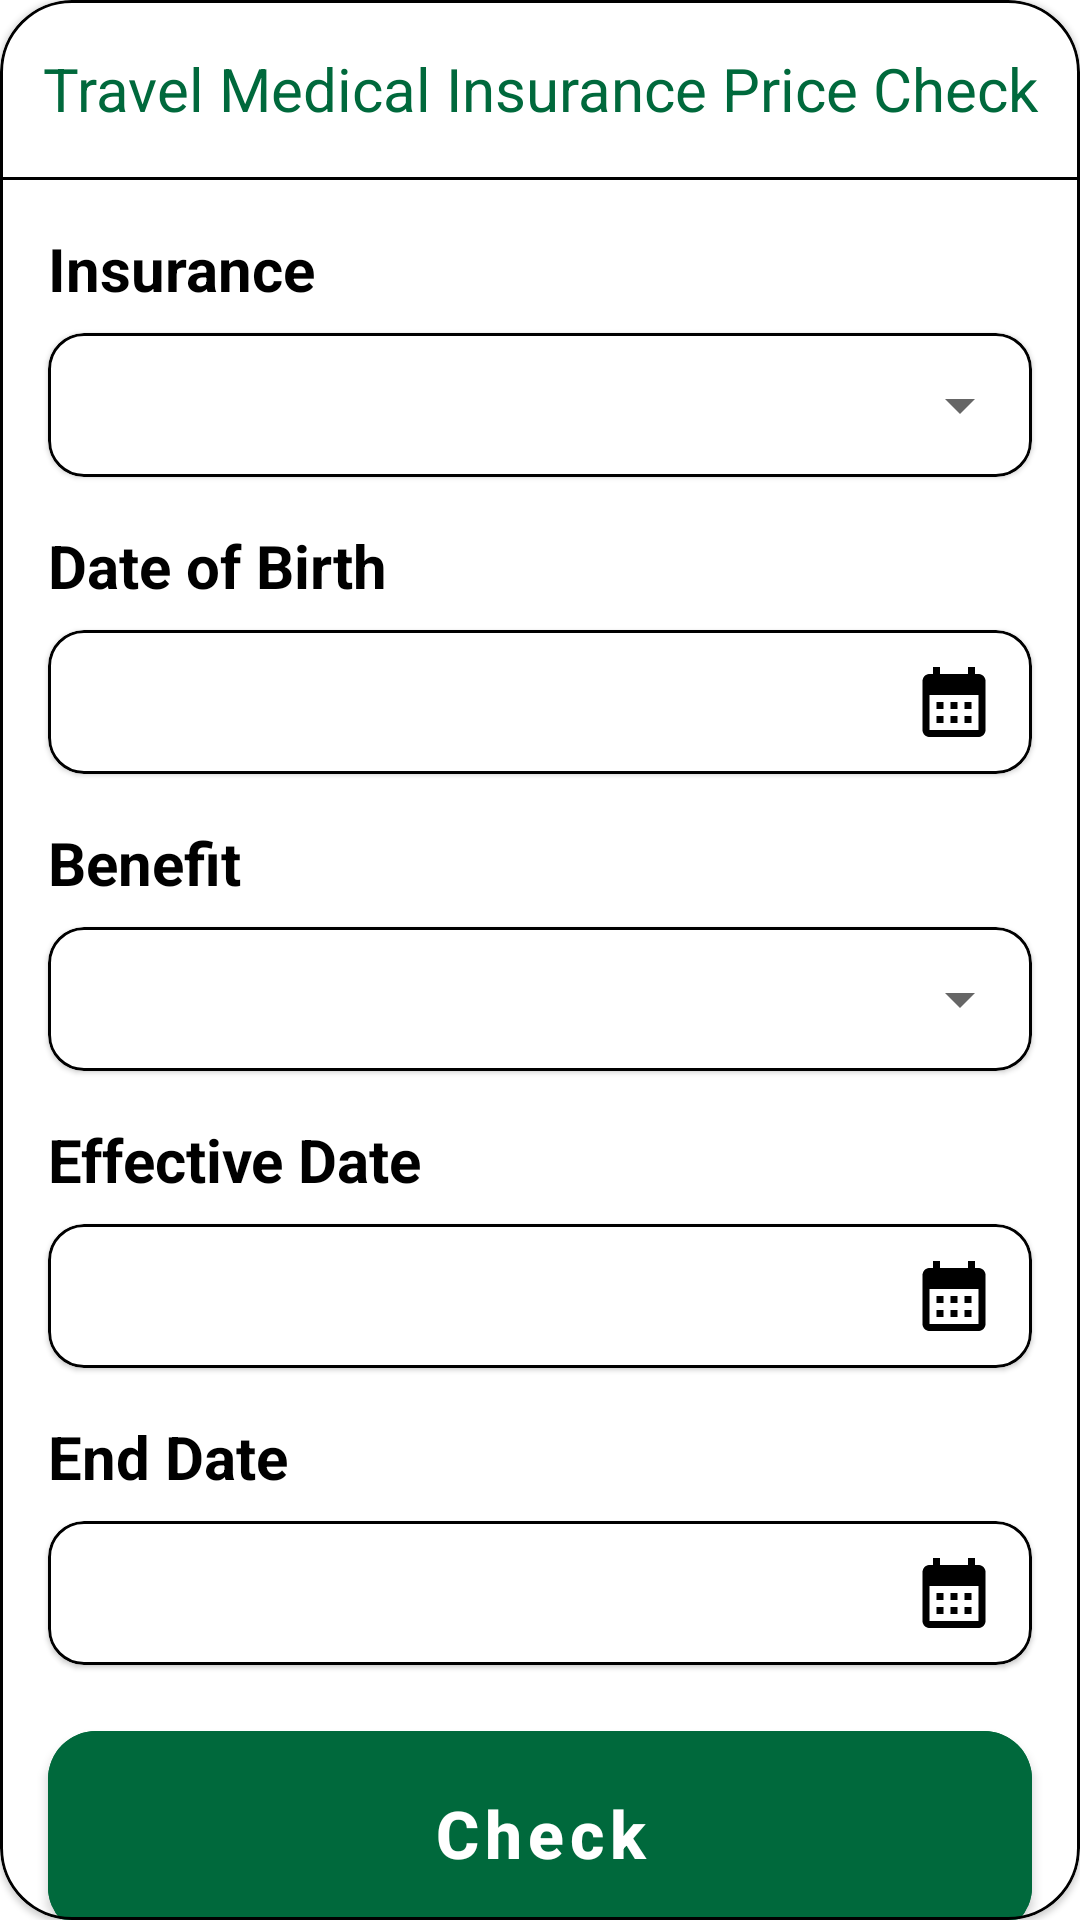

Named icons in this screenshot (1080px x 1920px) and their bounding boxes, (x1, y1, x2, y2):
calendar: (922, 667, 986, 737), (922, 1261, 986, 1331), (922, 1558, 986, 1628)
